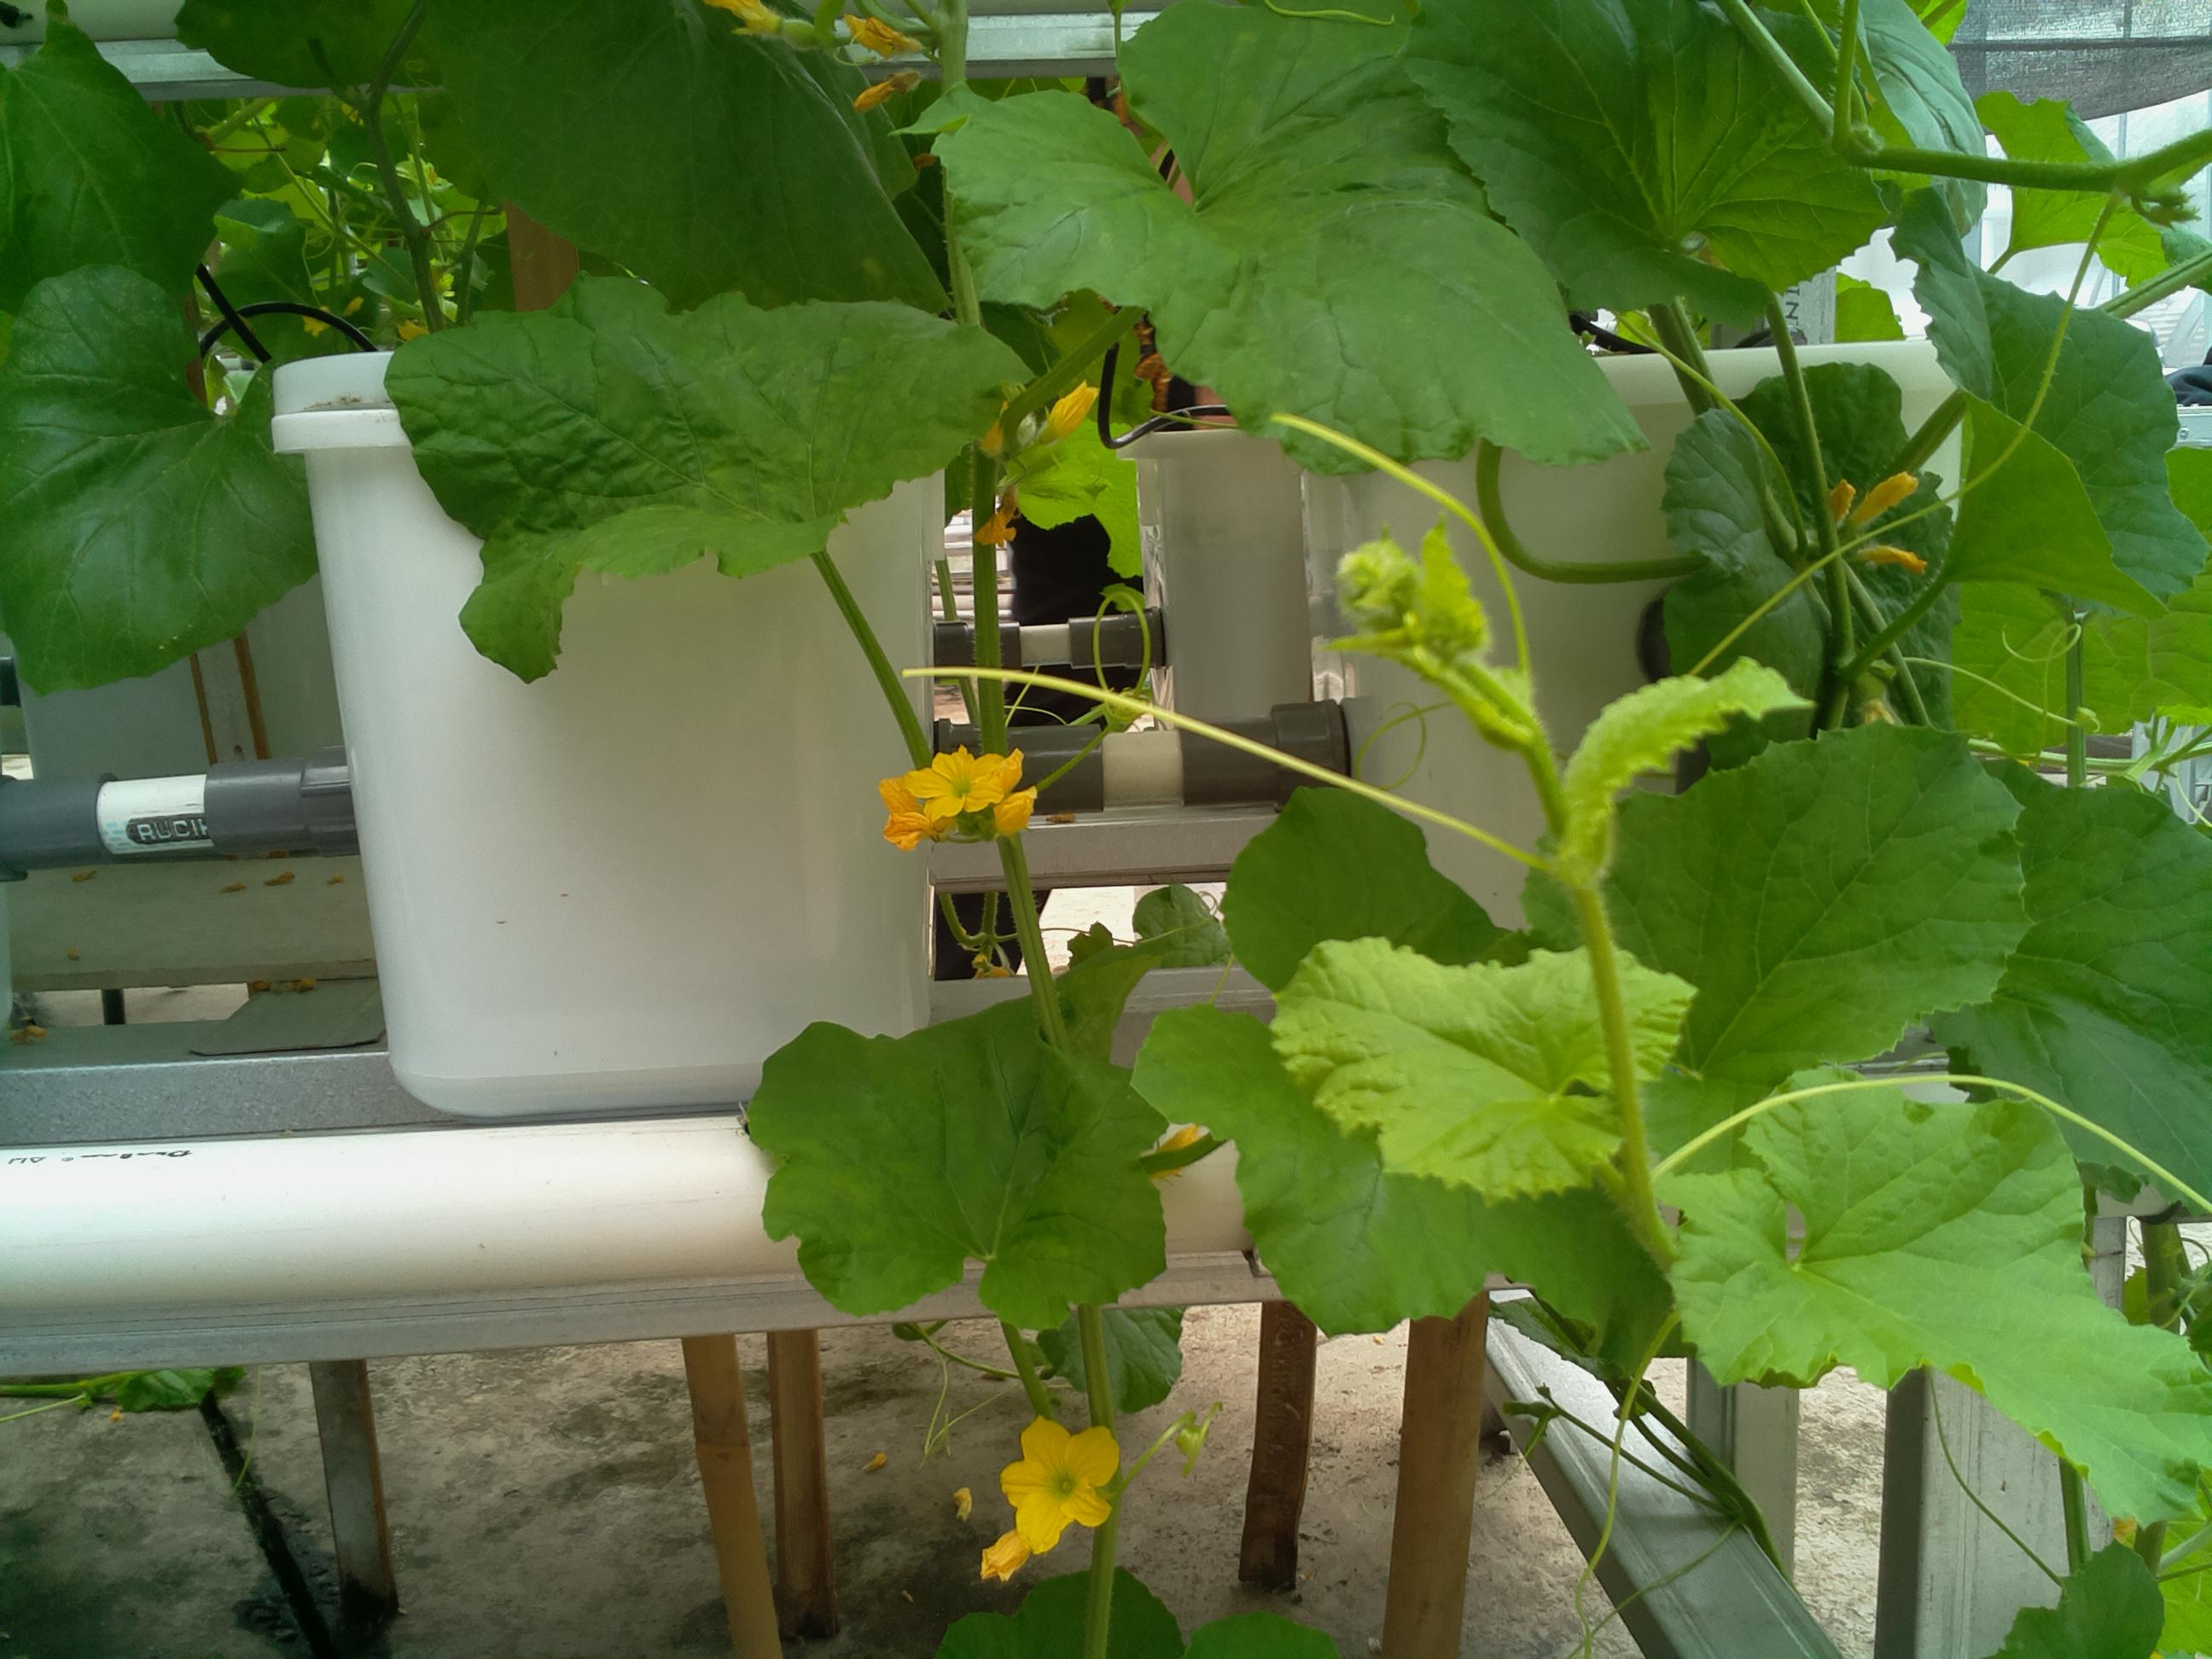abnormal: (14, 253, 359, 706)
normal: (881, 0, 1662, 502), (359, 251, 1047, 708), (1641, 1049, 2212, 1537), (723, 945, 1179, 1345), (1249, 924, 1709, 1220)
